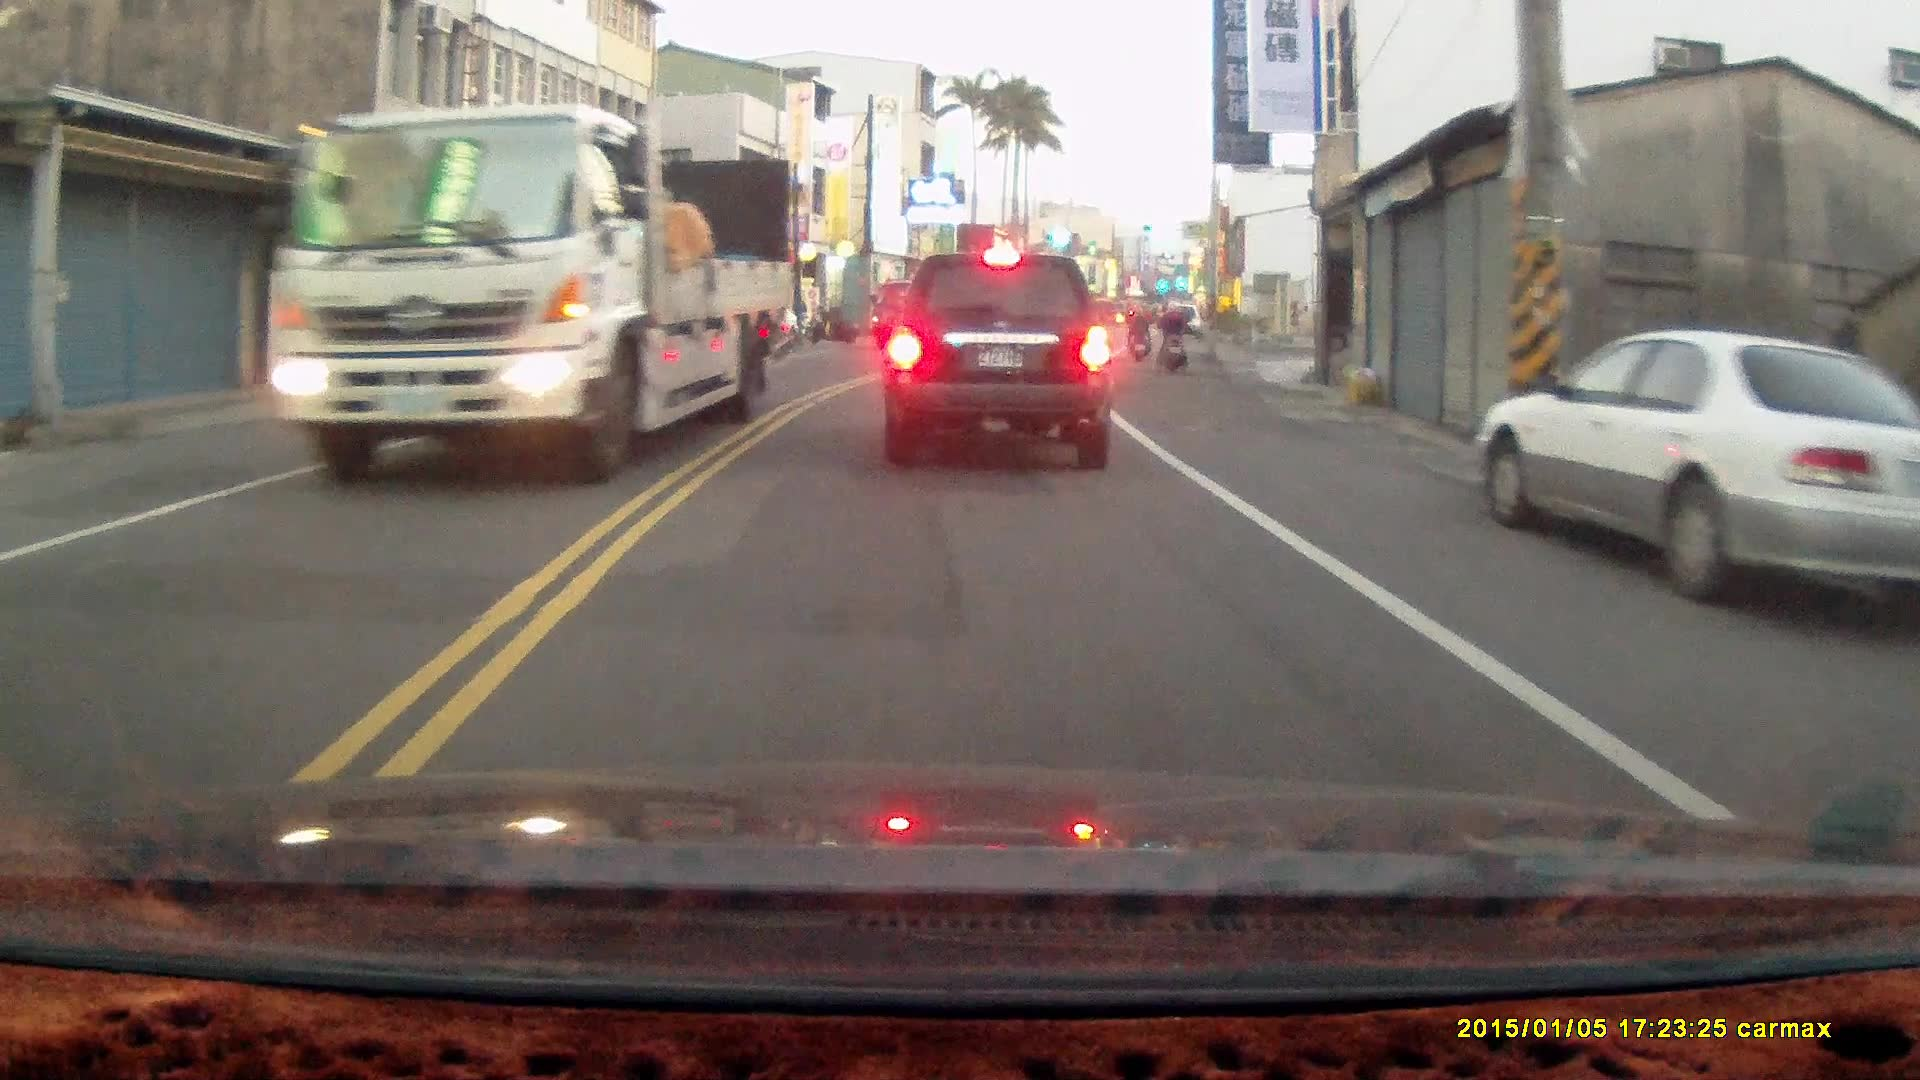rider: (1156, 297, 1185, 373), (1125, 301, 1151, 363)
vehicle: (279, 95, 804, 486), (1479, 327, 1920, 606), (880, 247, 1118, 468), (718, 291, 797, 348)
